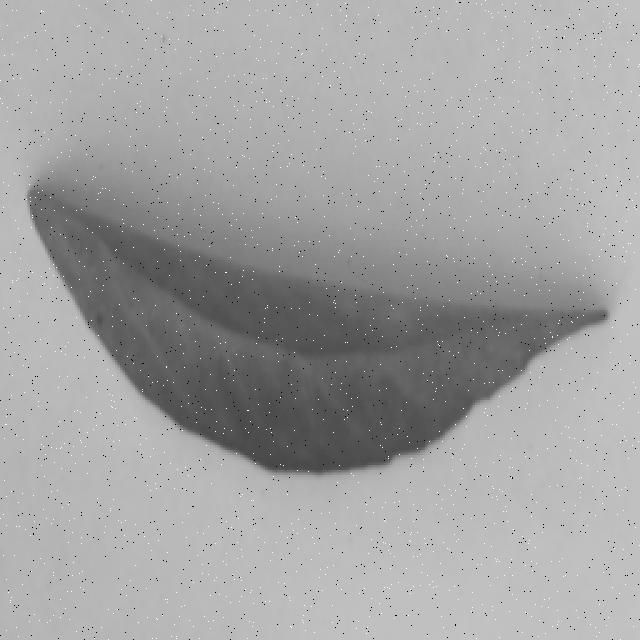greening: (13, 158, 624, 479)
